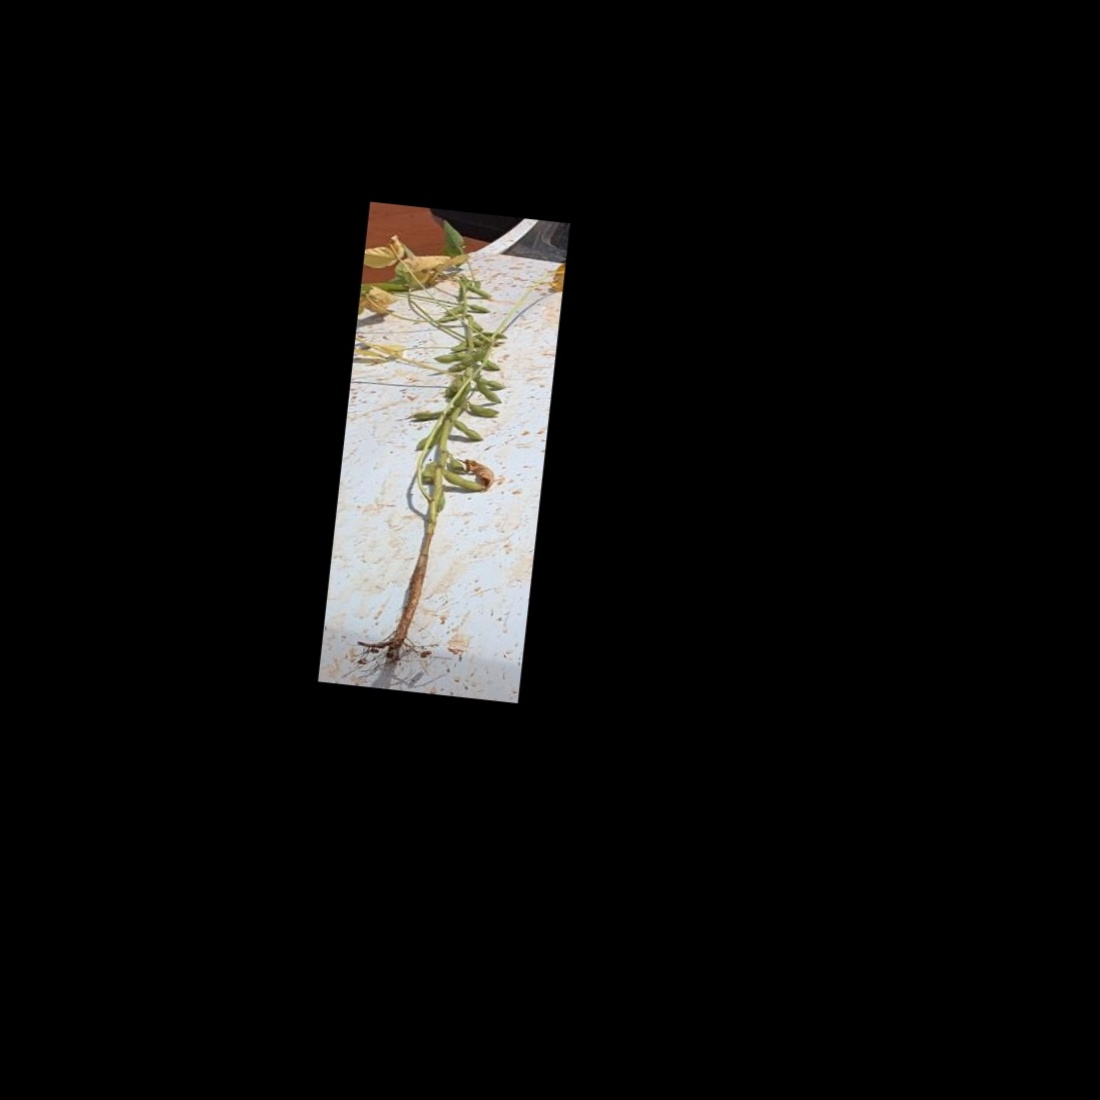pod: (430, 468, 494, 494), (448, 417, 487, 443), (461, 400, 505, 421), (430, 349, 466, 367), (472, 375, 509, 392), (464, 301, 494, 315)
soy: (340, 250, 538, 667)
